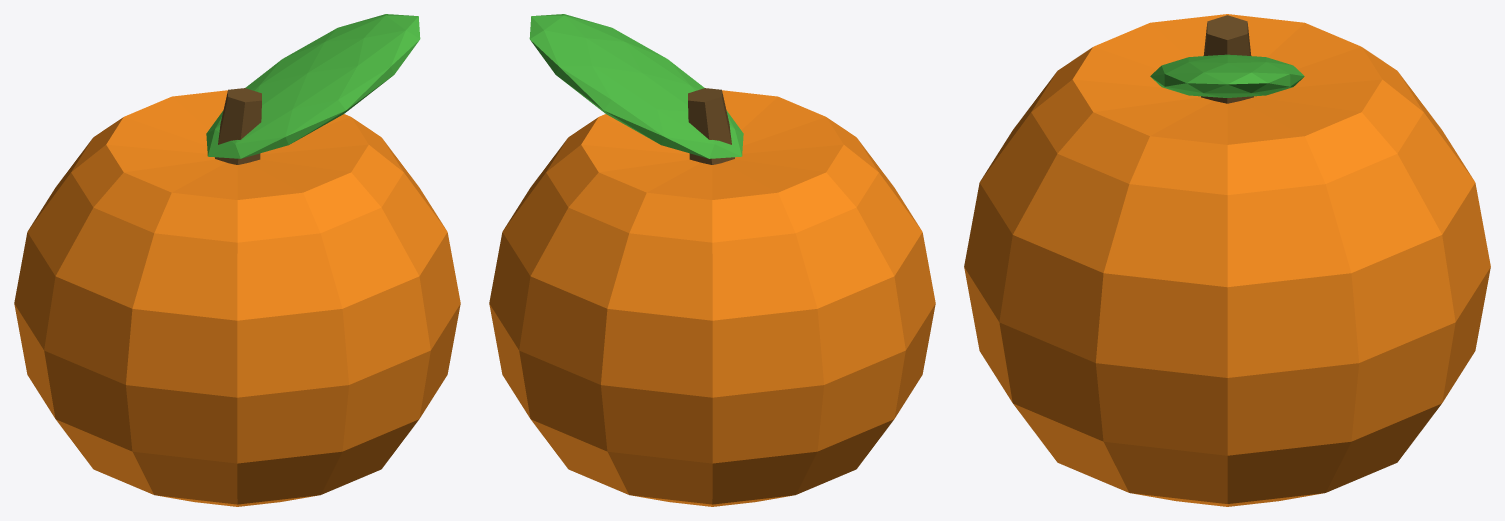
File: OrangeFruit.glb
The picture shows the model from 3 angles, left to right: view 1: azimuth 30°, elevation 25°; view 2: azimuth 150°, elevation 25°; view 3: azimuth 270°, elevation 25°; orthographic projection. The views are drawn at different scales.
Parts seen in each view (by area): view 1: OrangeFruit_OrangeBody, OrangeFruit_OrangeLeaf, OrangeFruit_OrangeStem; view 2: OrangeFruit_OrangeBody, OrangeFruit_OrangeLeaf, OrangeFruit_OrangeStem; view 3: OrangeFruit_OrangeBody, OrangeFruit_OrangeLeaf, OrangeFruit_OrangeStem.
Part boxes in pixels (<box>): OrangeFruit_OrangeBody: <box>14,90,460,506</box>; OrangeFruit_OrangeLeaf: <box>206,14,420,158</box>; OrangeFruit_OrangeStem: <box>215,88,261,164</box>; OrangeFruit_OrangeBody: <box>489,90,935,506</box>; OrangeFruit_OrangeLeaf: <box>529,14,743,158</box>; OrangeFruit_OrangeStem: <box>688,88,734,164</box>; OrangeFruit_OrangeBody: <box>964,14,1490,506</box>; OrangeFruit_OrangeLeaf: <box>1150,54,1304,97</box>; OrangeFruit_OrangeStem: <box>1201,15,1253,103</box>.
Bounding box in the file's own units: 1 × 1.01 × 1.
